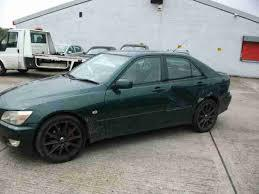doorouter-dent: (170, 80, 198, 122)
